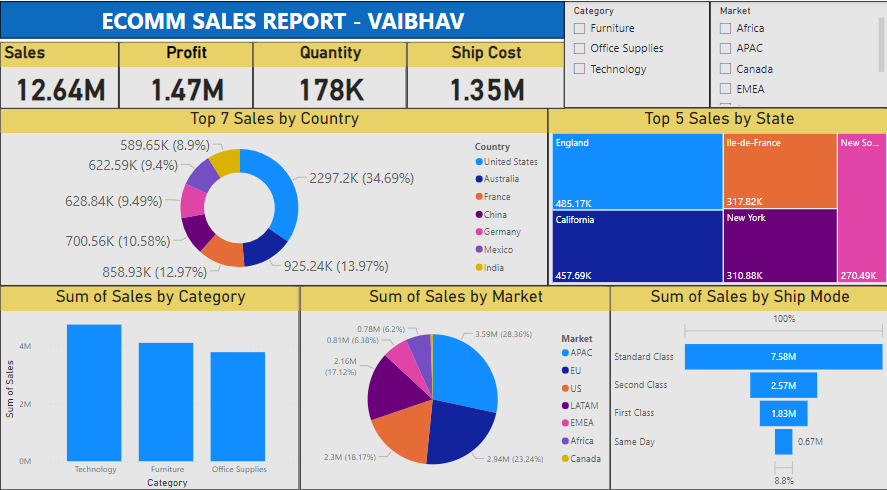

The dashboard page shown, as its layout file describes it:
{"tool":"powerbi","page":{"name":"Sales Report","canvas":[1280,720],"ordinal":0},"visuals":[{"type":"columnChart","fields":{"Category":["Orders.Category"],"Y":["Sum(Orders.Sales)"]},"box":[0,410,431.4,294.3],"z":0},{"type":"pieChart","fields":{"Category":["Orders.Market"],"Y":["Sum(Orders.Sales)"]},"box":[431.4,410,447.1,294.3],"z":1000},{"type":"funnel","fields":{"Category":["Orders.Ship Mode"],"Y":["Sum(Orders.Sales)"]},"box":[878.6,410,401.4,294.3],"z":2000},{"type":"donutChart","title":"Top 7 Sales by Country","fields":{"Y":["Sum(Orders.Sales)"],"Category":["Orders.Country"]},"box":[0,154.3,788.6,255.7],"z":3000},{"type":"treemap","title":"Top 5 Sales by State","fields":{"Group":["Orders.State"],"Values":["Sum(Orders.Sales)"]},"box":[788.6,154.3,491.4,255.7],"z":4000},{"type":"card","title":"Sales","fields":{"Values":["Sum(Orders.Sales)"]},"box":[0,58.6,171.4,95.7],"z":5000},{"type":"card","title":"Profit","fields":{"Values":["Sum(Orders.Profit)"]},"box":[171.4,58.6,192.9,95.7],"z":6000},{"type":"card","title":"Quantity","fields":{"Values":["Sum(Orders.Quantity)"]},"box":[364.3,58.6,221.4,95.7],"z":7000},{"type":"card","title":"Ship Cost","fields":{"Values":["Sum(Orders.Shipping Cost)"]},"box":[585.7,58.6,227.1,95.7],"z":8000},{"type":"slicer","fields":{"Values":["Orders.Category"]},"box":[812.9,0,210,154.3],"z":9000},{"type":"slicer","fields":{"Values":["Orders.Market"]},"box":[1022.9,0,257.1,154.3],"z":10000},{"type":"textbox","box":[0,0,812.9,54.3],"z":11000}]}

Visuals, with their boxes in screenshot pixels (x1, y1, x2, y2), scaled from the page's 1280x720 canvas onto the 887x490 screenshot:
columnChart - Orders.Category x Sum(Orders.Sales): (0,279,299,479)
pieChart - Orders.Market x Sum(Orders.Sales): (299,279,609,479)
funnel - Orders.Ship Mode x Sum(Orders.Sales): (609,279,886,479)
"Top 7 Sales by Country" donutChart: (0,105,546,279)
"Top 5 Sales by State" treemap: (546,105,886,279)
"Sales" card: (0,40,119,105)
"Profit" card: (119,40,252,105)
"Quantity" card: (252,40,406,105)
"Ship Cost" card: (406,40,563,105)
slicer - Orders.Category: (563,0,709,105)
slicer - Orders.Market: (709,0,886,105)
textbox: (0,0,563,37)
